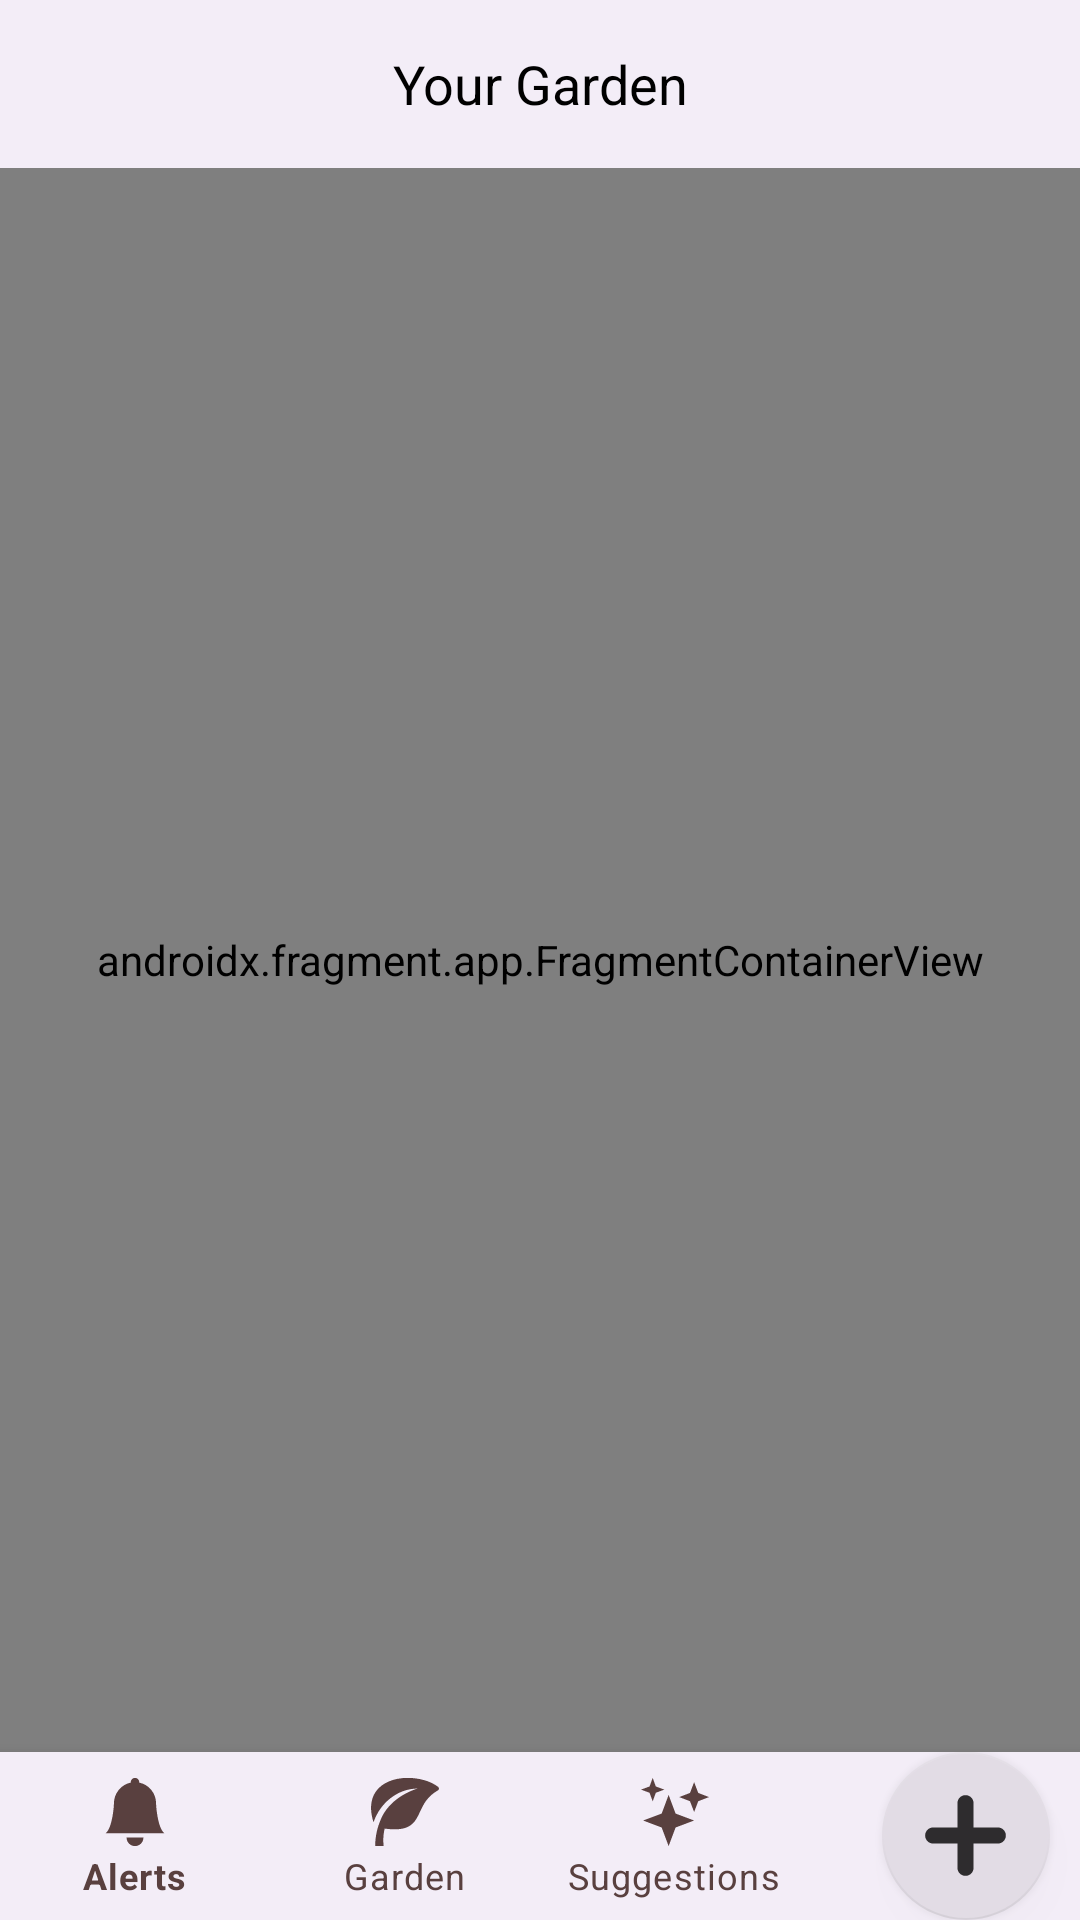

Point at icon controls on the screen. Image size 1080*1920, points as [x,y].
add: [966,1836]
